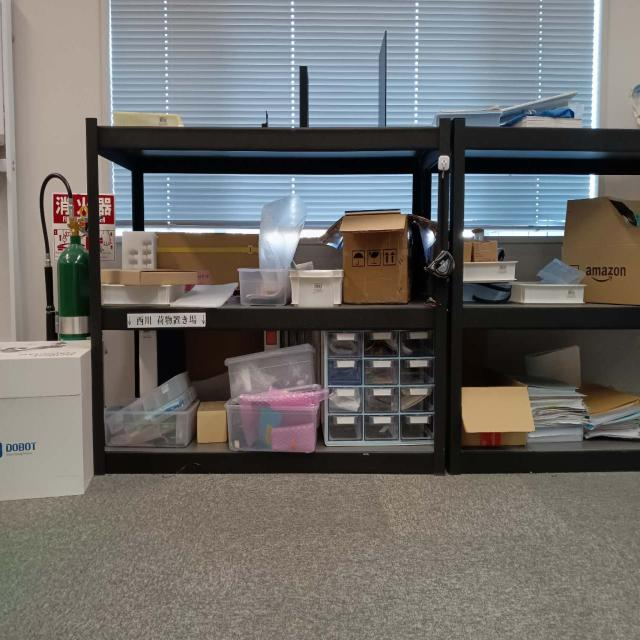box: (566, 206, 636, 302), (340, 212, 412, 304), (464, 384, 529, 448)
